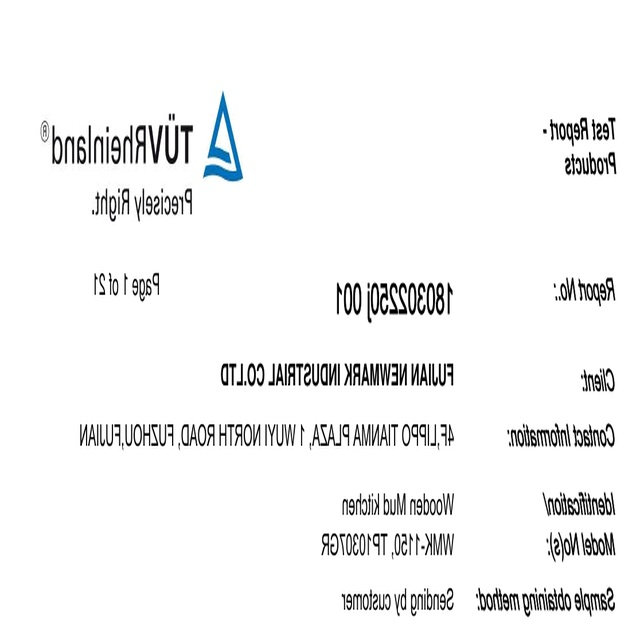tuv_rheinland: (37, 88, 246, 185)
